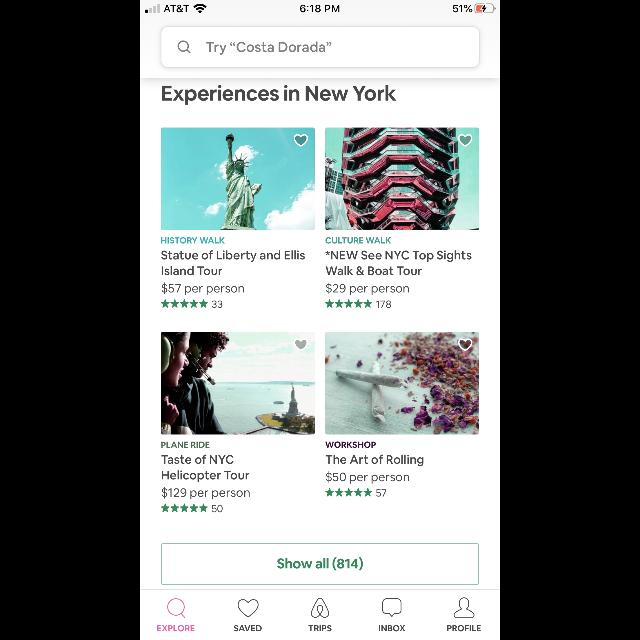icon: (326, 298, 372, 308), (162, 298, 208, 308), (454, 598, 474, 618), (326, 488, 372, 496), (162, 504, 208, 512), (382, 598, 402, 616), (238, 599, 258, 617), (167, 598, 185, 618), (458, 339, 472, 351), (294, 339, 308, 351), (458, 135, 472, 147), (294, 135, 308, 147), (178, 40, 190, 54)
image: (326, 332, 478, 434), (162, 332, 314, 434), (326, 128, 478, 230), (162, 128, 314, 230), (311, 598, 329, 618)
input: (161, 27, 479, 68)
text: (162, 85, 396, 105), (326, 250, 472, 276), (162, 250, 304, 276), (162, 454, 250, 482), (206, 41, 332, 54), (326, 454, 424, 466), (326, 282, 409, 296), (162, 282, 244, 296), (162, 487, 250, 499), (326, 471, 409, 483), (325, 238, 391, 244), (161, 238, 225, 244), (326, 442, 376, 448), (162, 442, 210, 448), (158, 625, 195, 631), (448, 625, 480, 631), (234, 625, 262, 631), (379, 625, 405, 631), (308, 625, 332, 631), (376, 300, 392, 308), (212, 300, 222, 308), (376, 489, 386, 496), (212, 506, 222, 512)
textbutton: (161, 543, 479, 585)
uppertaskbar: (140, 0, 500, 14)
